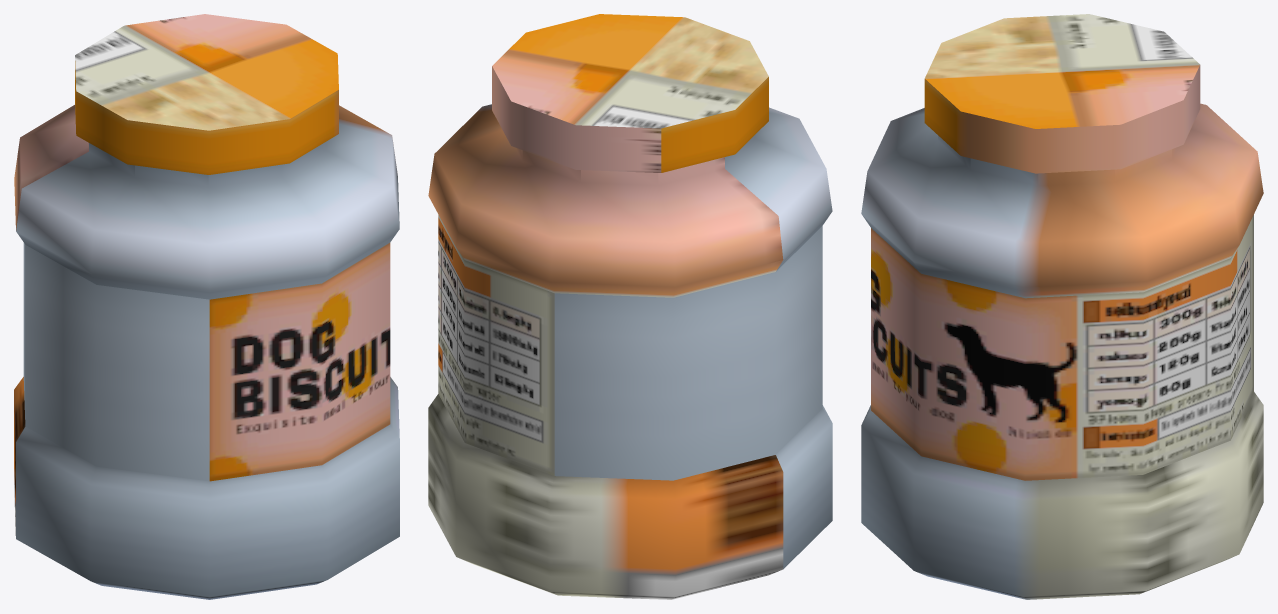
File: F2_Item_Snack_Bolo_S.dae
3 renders of one model, left to right at view 1: azimuth 30°, elevation 25°; view 2: azimuth 150°, elevation 25°; view 3: azimuth 270°, elevation 25°, orthographic.
Visible parts, largest first — view 1: _0_0_node, _2_0_node; view 2: _0_0_node, _2_0_node; view 3: _2_0_node, _0_0_node.
Part boxes in pixels (x1,y1,x2,y2): _0_0_node: (14,105,399,599); _2_0_node: (75,14,390,481); _0_0_node: (428,104,832,599); _2_0_node: (438,14,768,475); _2_0_node: (871,14,1253,480); _0_0_node: (861,103,1263,599).
Size of the model in its own units: 0.6128 by 0.7689 by 0.6202.
Materials: 3 (3 with a texture image).
